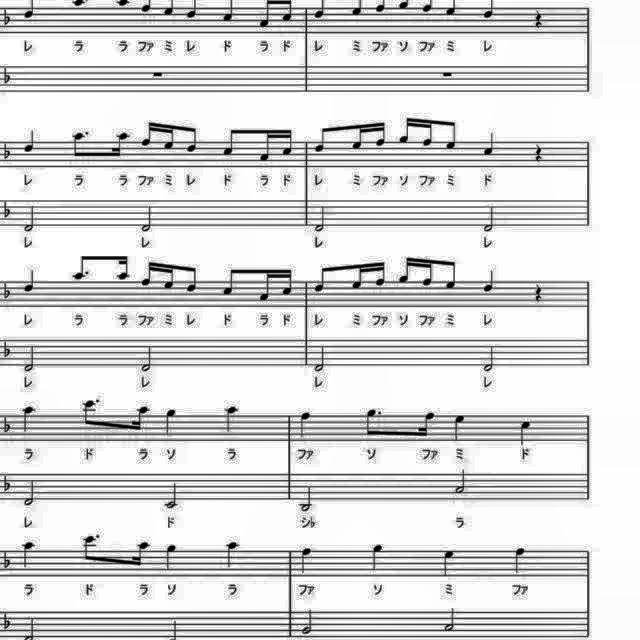Bemol: (1, 546, 15, 576), (0, 4, 14, 28), (0, 412, 14, 436), (0, 138, 14, 162), (1, 278, 15, 302), (0, 338, 14, 362), (0, 610, 14, 634), (0, 62, 14, 86), (0, 471, 14, 493), (0, 198, 14, 220)
Eighth-note: (68, 252, 95, 284), (218, 262, 240, 300), (361, 404, 384, 440), (78, 534, 102, 568), (310, 263, 332, 297), (69, 129, 91, 163), (440, 116, 458, 156), (439, 254, 457, 294), (219, 124, 239, 160), (314, 122, 334, 158), (81, 398, 102, 430), (183, 262, 201, 296), (182, 122, 200, 156)
Half-note: (480, 202, 500, 234), (480, 342, 500, 374), (296, 608, 316, 640), (298, 482, 318, 514), (137, 202, 157, 234), (312, 342, 331, 374), (452, 467, 472, 497), (442, 604, 462, 634), (162, 481, 182, 511), (22, 341, 40, 374), (22, 202, 40, 234), (20, 477, 38, 509), (138, 342, 156, 374), (312, 203, 328, 234)
Half-rest: (440, 66, 458, 82), (148, 67, 166, 81)
Quarter-note: (220, 403, 242, 435), (509, 544, 529, 578), (162, 406, 182, 438), (162, 542, 182, 574), (19, 404, 39, 436), (294, 408, 314, 439), (222, 540, 242, 570), (516, 417, 536, 447), (298, 544, 316, 576), (367, 540, 385, 572), (20, 268, 40, 296), (480, 266, 500, 294), (451, 412, 469, 442), (441, 548, 459, 578), (20, 538, 38, 568), (481, 130, 499, 158), (21, 128, 39, 156)
Quarter-rest: (530, 6, 550, 34), (530, 140, 546, 164), (534, 279, 548, 305)
Sixteenth-note: (128, 403, 152, 437), (110, 129, 134, 163), (254, 265, 274, 305), (414, 408, 438, 440), (395, 252, 415, 288), (138, 116, 158, 152), (398, 113, 418, 149), (259, 128, 277, 166), (421, 113, 439, 151), (347, 260, 367, 294), (138, 257, 158, 291), (130, 538, 150, 572), (161, 118, 179, 154), (419, 254, 437, 290), (348, 120, 368, 152), (116, 252, 136, 284), (371, 117, 389, 151), (369, 257, 386, 291), (161, 260, 179, 292), (280, 264, 296, 300), (280, 125, 296, 159)
